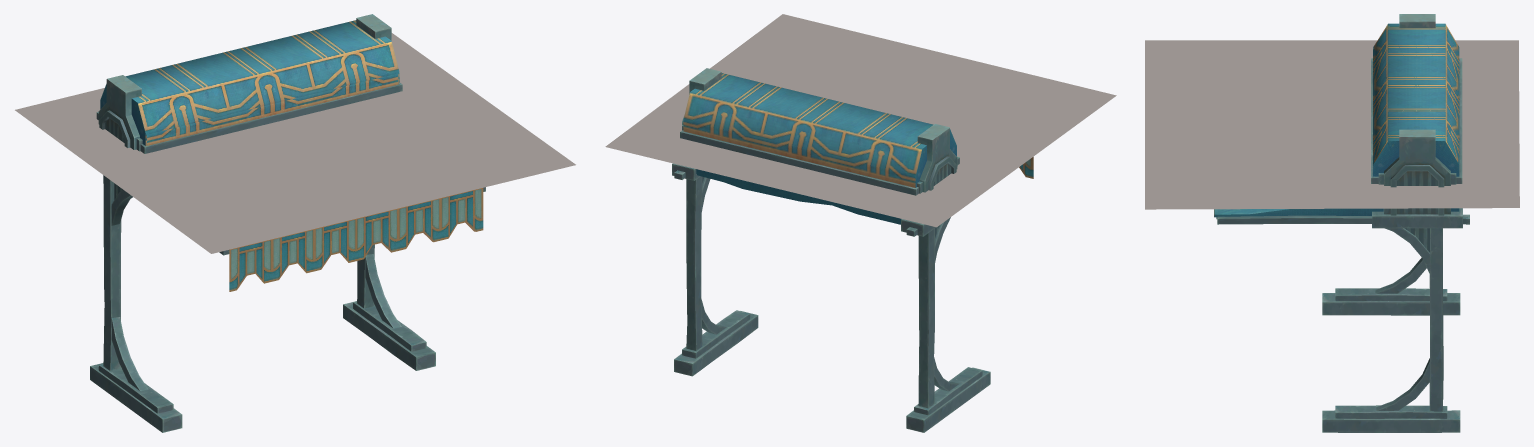
File: Homeworld_Exterior_Fd_Build_Prop_BlueTanwei_01_Lod0.fbx
The picture shows the model from 3 angles, left to right: view 1: azimuth 30°, elevation 25°; view 2: azimuth 150°, elevation 25°; view 3: azimuth 270°, elevation 25°; orthographic projection. The views are drawn at different scales.
Visible parts, largest first — view 1: Area_Fd_Prop_FDC_Tanwei_01_Ocl, Area_Fd_Prop_FDC_Tanwei_01_Lod0; view 2: Area_Fd_Prop_FDC_Tanwei_01_Ocl, Area_Fd_Prop_FDC_Tanwei_01_Lod0; view 3: Area_Fd_Prop_FDC_Tanwei_01_Ocl, Area_Fd_Prop_FDC_Tanwei_01_Lod0.
Boxes of the visible parts, x1,y1,x2,y2 form: Area_Fd_Prop_FDC_Tanwei_01_Ocl: [15, 33, 575, 253]; Area_Fd_Prop_FDC_Tanwei_01_Lod0: [90, 14, 485, 432]; Area_Fd_Prop_FDC_Tanwei_01_Ocl: [605, 14, 1116, 227]; Area_Fd_Prop_FDC_Tanwei_01_Lod0: [672, 68, 1033, 432]; Area_Fd_Prop_FDC_Tanwei_01_Ocl: [1145, 40, 1519, 209]; Area_Fd_Prop_FDC_Tanwei_01_Lod0: [1214, 14, 1469, 432].
Bounding box in the file's own units: 5.02 × 4.07 × 4.7.
